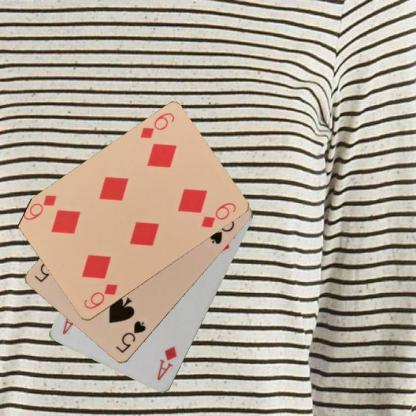5s: (113, 318, 148, 355)
6d: (81, 281, 119, 311), (138, 110, 176, 140)
Ad: (154, 344, 178, 382)
